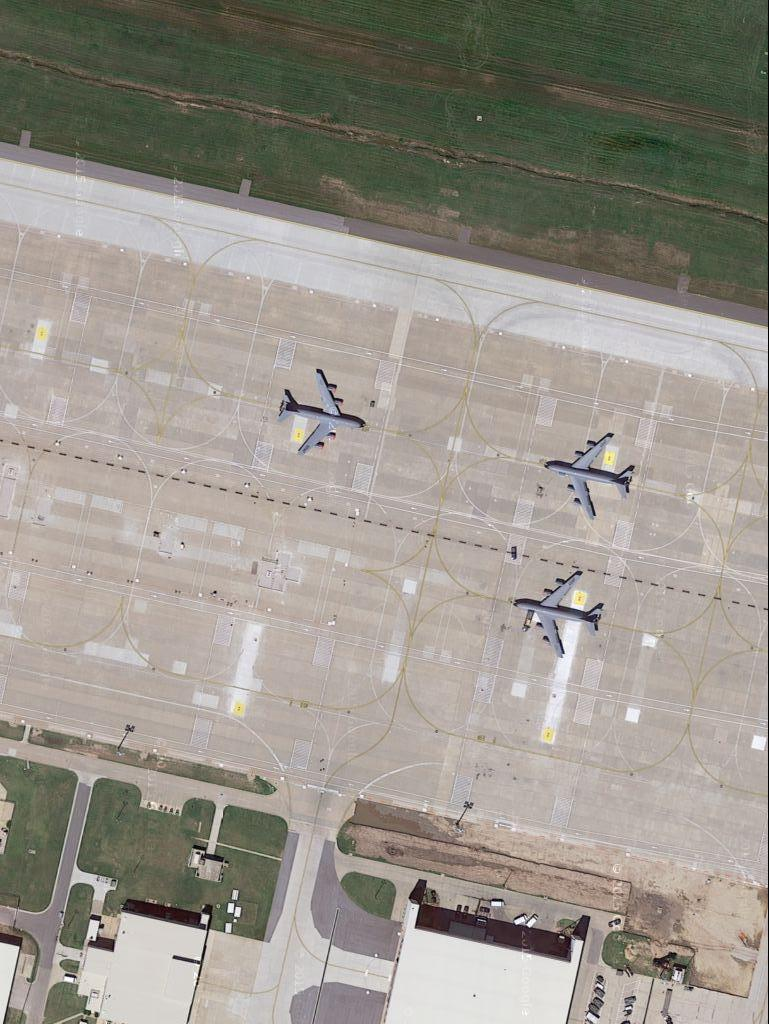KC-135: (512, 562, 609, 662), (273, 362, 370, 459), (543, 428, 638, 524)
